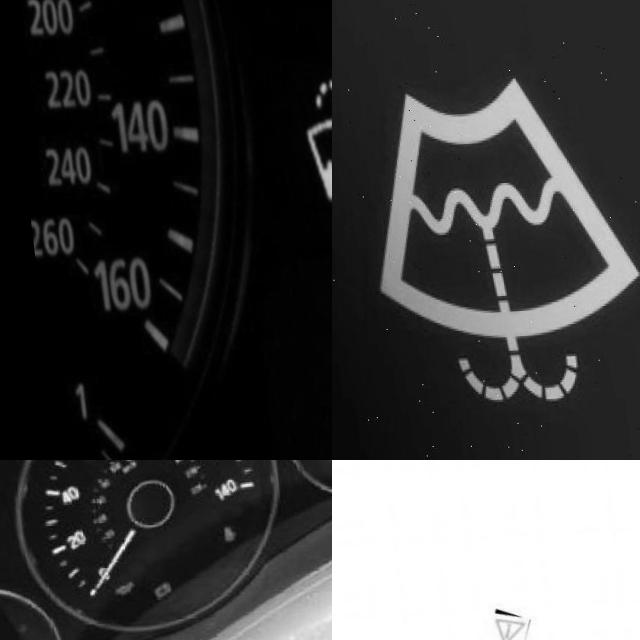Seat Belt: (214, 533, 238, 556)
Washer Fluid: (291, 82, 332, 205)
